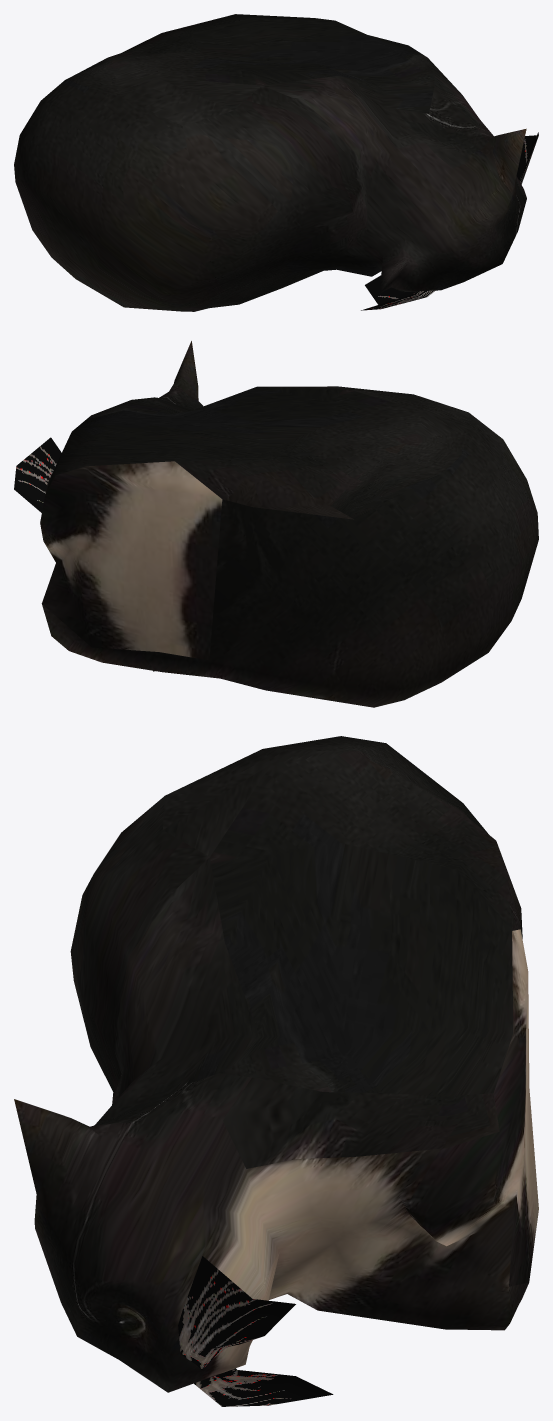
Rendered from Maxwell.glb.
3 renders of one model, top to bottom at view 1: azimuth 30°, elevation 25°; view 2: azimuth 150°, elevation 25°; view 3: azimuth 270°, elevation 25°, orthographic. The views are drawn at different scales.
Parts seen in each view (by area): view 1: dingus; view 2: dingus; view 3: dingus.
Boxes of the visible parts, x1,y1,x2,y2 form: dingus: (14, 14, 538, 311); dingus: (14, 341, 538, 707); dingus: (14, 736, 538, 1406).
Bounding box in the file's own units: 3.32 × 1.87 × 1.92.
2 materials, 2 textured.
